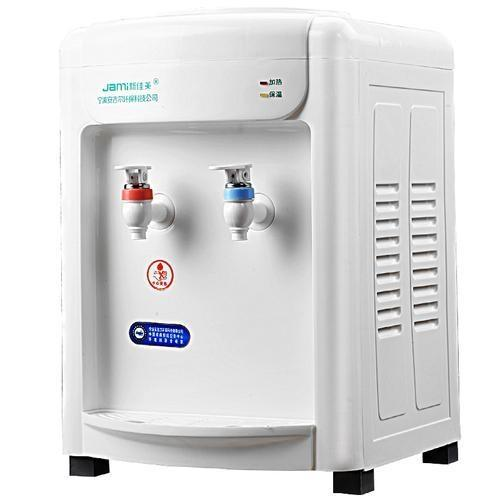Dispenser: (57, 8, 459, 494)
